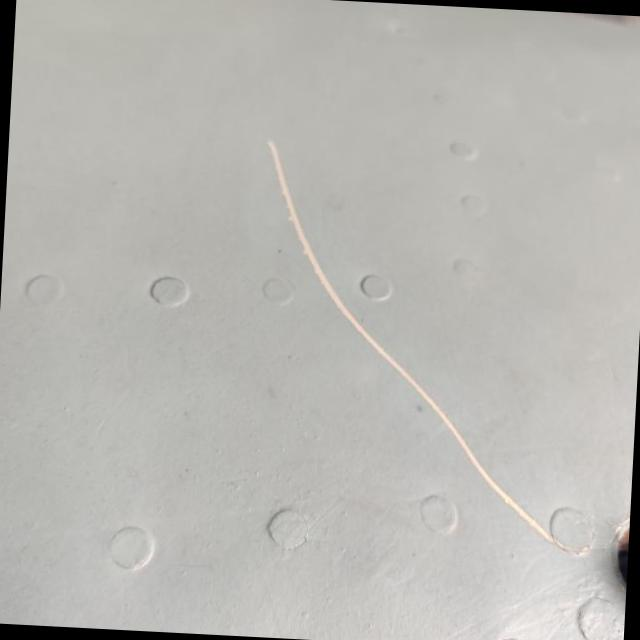Scratch: (256, 132, 574, 560)
